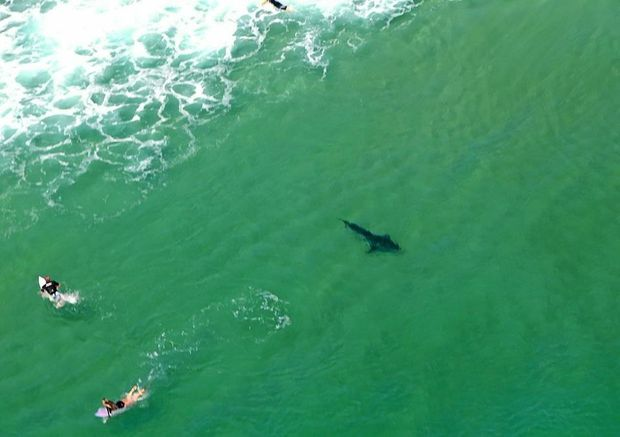shark: (335, 215, 403, 260)
surfer: (91, 382, 150, 426), (31, 271, 84, 318)
